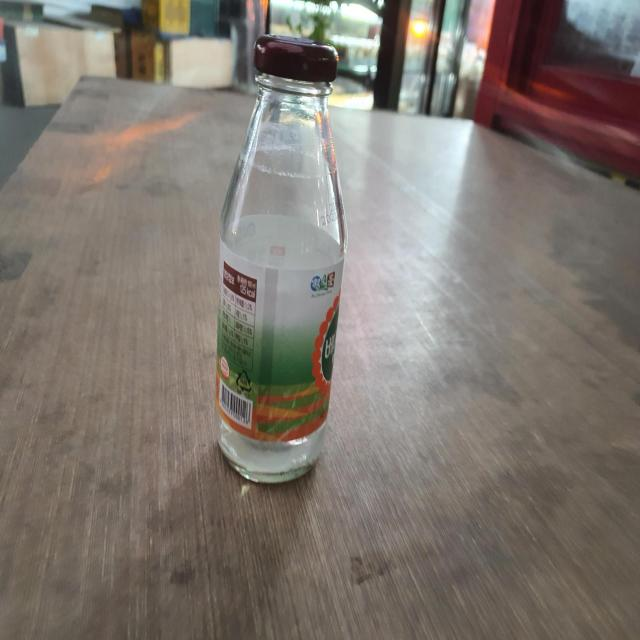glass: (216, 34, 347, 483)
